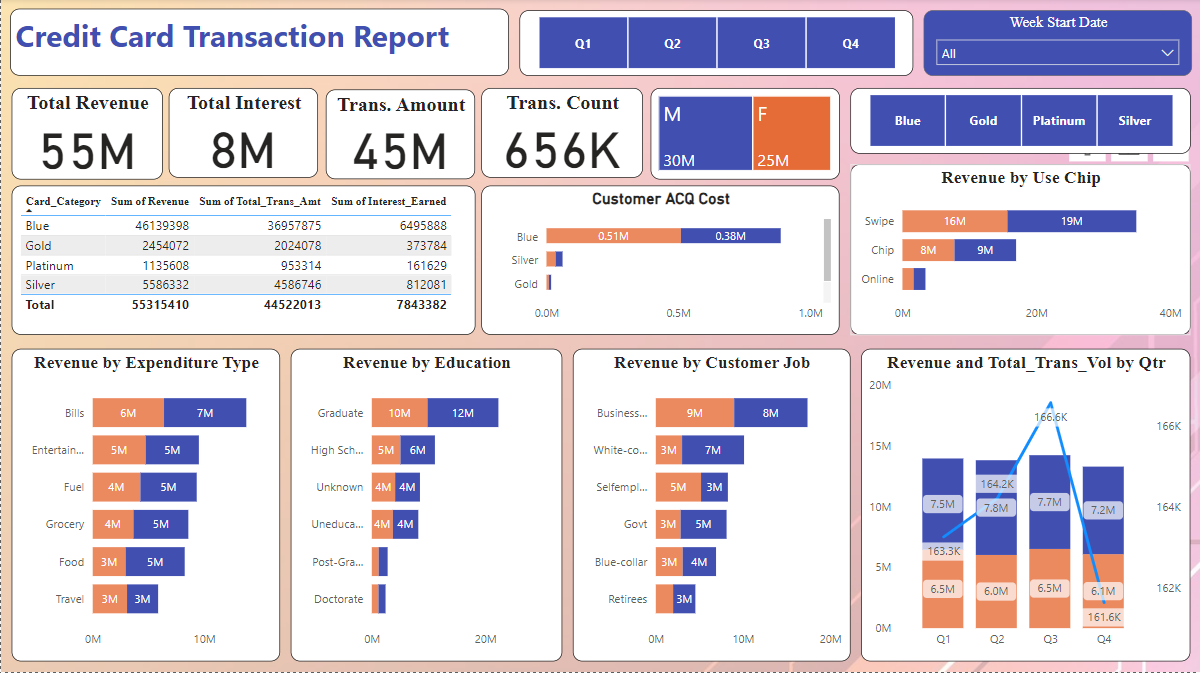

What the dashboard file says about the page in this screenshot:
{"tool":"powerbi","page":{"name":"Credit Card Transaction Report","canvas":[1280,720],"ordinal":1},"visuals":[{"type":"textbox","box":[9.8,11.4,532.4,71.6],"z":0},{"type":"lineStackedColumnComboChart","title":"Revenue and Total_Trans_Vol by Qtr","fields":{"Category":["credit_card.Qtr"],"Y":["Sum(credit_card.Revenue)"],"Y2":["Sum(credit_card.Total_Trans_Vol)"],"Series":["customer.Gender"]},"box":[918.2,374.4,351.7,333.7],"z":1000},{"type":"barChart","title":"Customer ACQ Cost","fields":{"Series":["customer.Gender"],"Y":["Sum(credit_card.Customer_Acq_Cost)"],"Category":["credit_card.Card_Category"]},"box":[512.8,200.2,382.6,159.5],"z":2000},{"type":"tableEx","fields":{"Values":["credit_card.Card_Category","Sum(credit_card.Revenue)","Sum(credit_card.Total_Trans_Amt)","Sum(credit_card.Interest_Earned)"]},"box":[11.4,200.2,494.9,159.5],"z":3000},{"type":"card","title":"Total Revenue","fields":{"Values":["Sum(credit_card.Revenue)"]},"box":[11.4,96.1,161.2,97.7],"z":4000},{"type":"slicer","fields":{"Values":["credit_card.Qtr"]},"box":[553.5,13,420,70],"z":5000},{"type":"slicer","title":"Week Start Date","fields":{"Values":["credit_card.Week_Start_Date"]},"box":[985,13,286.5,70],"z":6000},{"type":"card","title":"Total Interest","fields":{"Values":["Sum(credit_card.Interest_Earned)"]},"box":[179.1,96.1,159.5,96.1],"z":7000},{"type":"card","title":"Trans. Amount","fields":{"Values":["Sum(credit_card.Total_Trans_Amt)"]},"box":[346.8,97.7,159.5,96.1],"z":8000},{"type":"card","title":"Trans. Count","fields":{"Values":["Sum(credit_card.Total_Trans_Vol)"]},"box":[512.8,96.1,172.6,96.1],"z":9000},{"type":"barChart","title":"Revenue by Use Chip","fields":{"Y":["Sum(credit_card.Revenue)"],"Series":["customer.Gender"],"Category":["credit_card.Use Chip"]},"box":[906.8,177.5,363.1,182.3],"z":10000},{"type":"barChart","title":"Revenue by Education","fields":{"Y":["Sum(credit_card.Revenue)"],"Category":["customer.Education_Level","customer.AgeGroup"],"Series":["customer.Gender"]},"box":[309.3,374.4,289.8,333.7],"z":11000},{"type":"barChart","title":"Revenue by Customer Job","fields":{"Y":["Sum(credit_card.Revenue)"],"Category":["customer.Customer_Job"],"Series":["customer.Gender"]},"box":[610.5,374.4,296.3,333.7],"z":12000},{"type":"barChart","title":"Revenue by Expenditure Type","fields":{"Y":["Sum(credit_card.Revenue)"],"Category":["credit_card.Exp Type"],"Series":["customer.Gender"]},"box":[11.4,374.4,286.5,333.7],"z":13000},{"type":"treemap","fields":{"Group":["customer.Gender"],"Values":["Sum(credit_card.Revenue)"]},"box":[693.5,96.1,201.9,97.7],"z":14000},{"type":"slicer","fields":{"Values":["credit_card.Card_Category"]},"box":[906.8,96.1,363.1,70],"z":15000}]}

Visuals, with their boxes in screenshot pixels (x1, y1, x2, y2), scaled from the page's 1280x720 canvas onto the 1200x673 screenshot:
textbox: rect(9, 11, 508, 78)
"Revenue and Total_Trans_Vol by Qtr" lineStackedColumnComboChart: rect(861, 350, 1191, 662)
"Customer ACQ Cost" barChart: rect(481, 187, 839, 336)
tableEx - credit_card.Card_Category x Sum(credit_card.Revenue): rect(11, 187, 475, 336)
"Total Revenue" card: rect(11, 90, 162, 181)
slicer - credit_card.Qtr: rect(519, 12, 913, 78)
"Week Start Date" slicer: rect(923, 12, 1192, 78)
"Total Interest" card: rect(168, 90, 317, 180)
"Trans. Amount" card: rect(325, 91, 475, 181)
"Trans. Count" card: rect(481, 90, 643, 180)
"Revenue by Use Chip" barChart: rect(850, 166, 1191, 336)
"Revenue by Education" barChart: rect(290, 350, 562, 662)
"Revenue by Customer Job" barChart: rect(572, 350, 850, 662)
"Revenue by Expenditure Type" barChart: rect(11, 350, 279, 662)
treemap - customer.Gender x Sum(credit_card.Revenue): rect(650, 90, 839, 181)
slicer - credit_card.Card_Category: rect(850, 90, 1191, 155)
